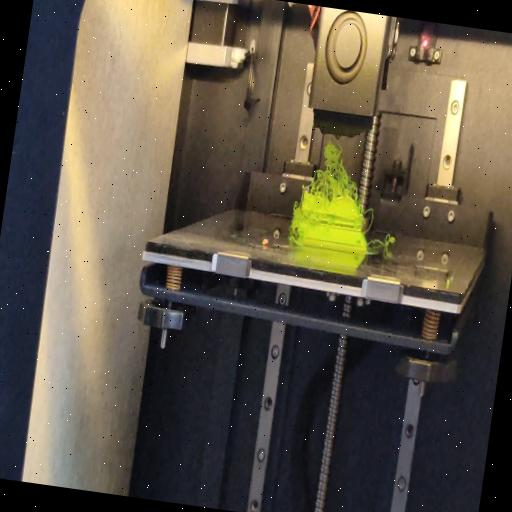spaghetti: (306, 136, 368, 204), (366, 228, 398, 254), (362, 206, 376, 232), (290, 228, 298, 244)
